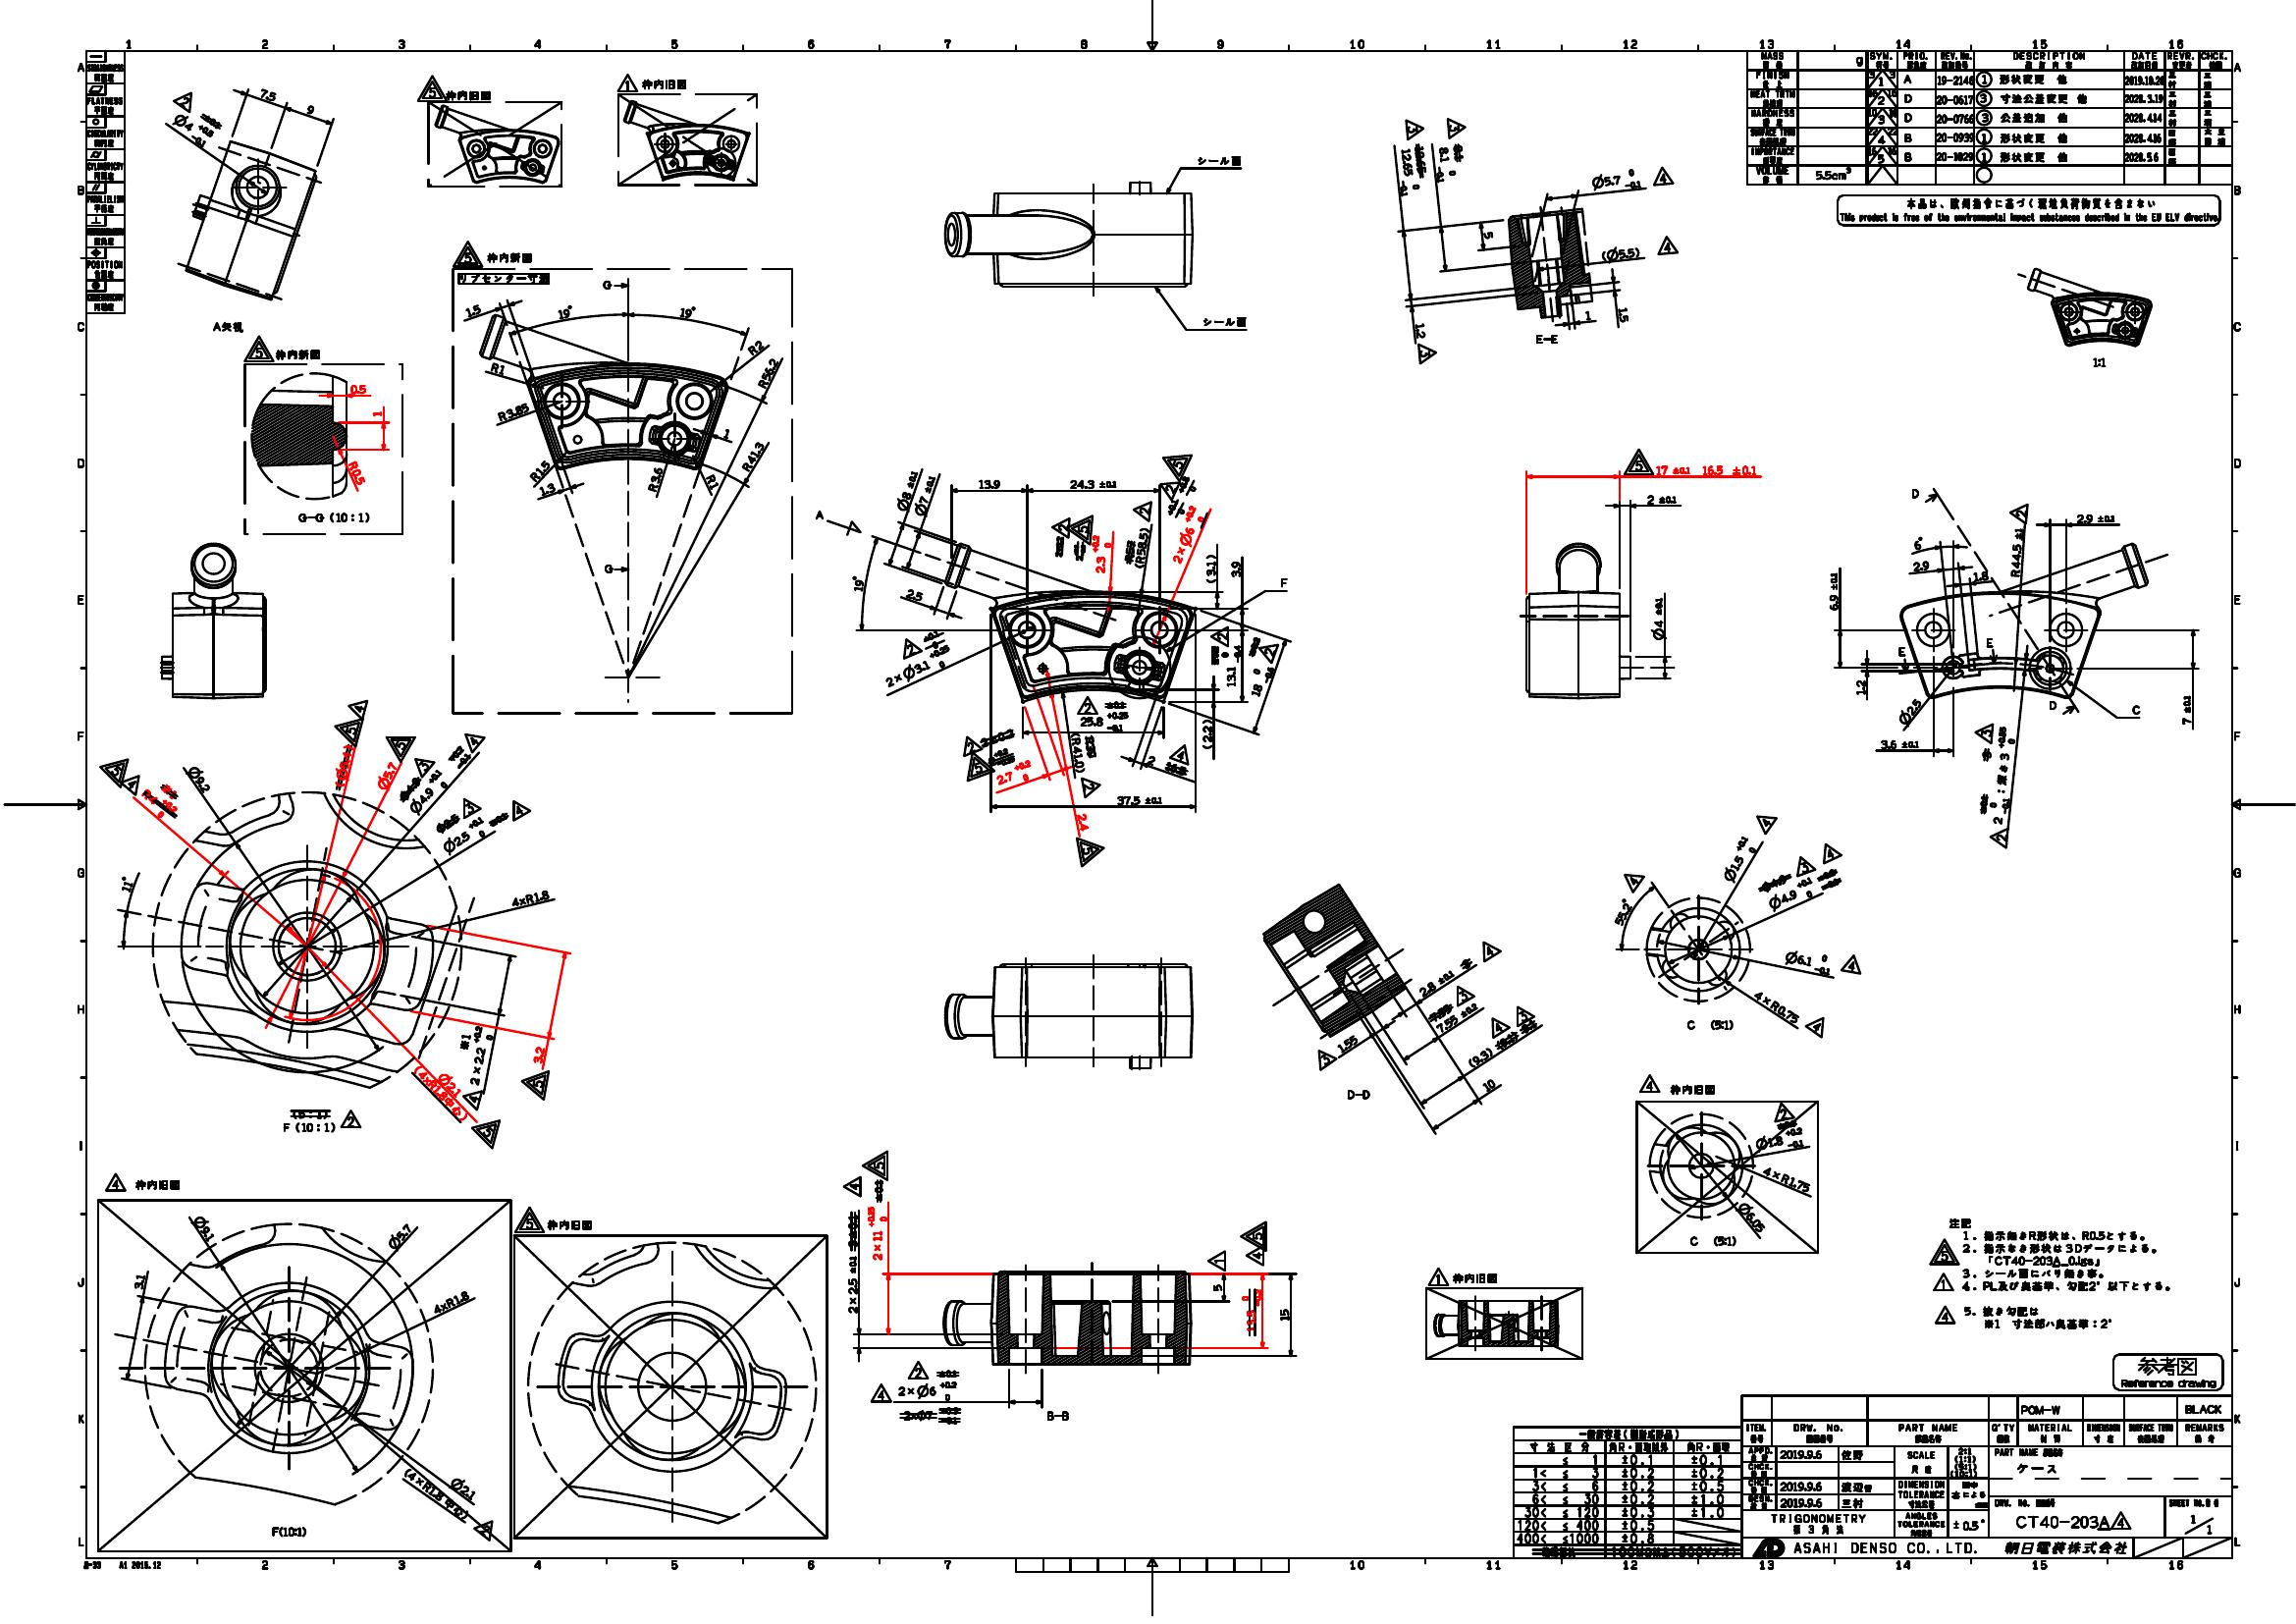anntotation_text: (1927, 1216, 2175, 1329), (1836, 193, 2220, 227), (2110, 1352, 2224, 1388), (455, 271, 550, 283), (520, 1069, 553, 1102), (857, 1148, 889, 1183), (97, 758, 128, 789), (471, 1118, 502, 1149), (1237, 1220, 1268, 1251), (513, 1204, 546, 1234), (1621, 445, 1655, 475), (1075, 835, 1105, 868), (81, 1559, 162, 1571), (451, 239, 483, 269), (383, 735, 416, 763), (964, 752, 994, 782), (415, 74, 446, 102), (242, 334, 274, 362), (297, 511, 369, 524), (1066, 513, 1093, 547), (334, 717, 364, 745), (1161, 453, 1193, 480), (132, 1176, 181, 1192), (279, 1120, 334, 1134), (1203, 315, 1247, 330), (545, 1218, 594, 1232), (1685, 1018, 1734, 1032), (1688, 1234, 1736, 1248), (1667, 1083, 1715, 1097), (639, 77, 687, 91), (1449, 1271, 1498, 1283), (336, 1107, 362, 1130), (102, 1171, 128, 1193), (1635, 1070, 1662, 1093), (866, 1383, 894, 1404), (1196, 155, 1244, 167), (840, 1174, 863, 1199), (1655, 234, 1679, 257), (487, 250, 532, 262), (1166, 743, 1191, 766), (905, 1359, 931, 1380), (1753, 814, 1780, 835), (1620, 872, 1646, 893), (269, 1524, 307, 1538), (346, 698, 369, 721), (464, 729, 487, 752), (1839, 953, 1862, 975), (1794, 854, 1816, 877), (2006, 501, 2029, 524), (1651, 165, 1674, 188), (1079, 775, 1101, 798), (1131, 499, 1154, 522), (1049, 515, 1072, 538), (1773, 1102, 1797, 1123), (1822, 840, 1843, 865), (413, 756, 436, 777), (462, 796, 483, 819), (511, 798, 532, 821), (1205, 1250, 1228, 1271), (1490, 1016, 1511, 1039), (1455, 984, 1476, 1007), (1481, 940, 1504, 961), (1973, 722, 1994, 745), (1987, 826, 2008, 849), (1416, 341, 1437, 364), (1404, 116, 1425, 139), (617, 70, 638, 93), (444, 90, 490, 100), (174, 88, 197, 109), (274, 348, 320, 359), (899, 638, 922, 659), (961, 735, 982, 758), (1075, 696, 1100, 715), (1244, 1244, 1265, 1265), (1426, 1265, 1448, 1287), (1514, 1005, 1535, 1026), (1316, 1049, 1337, 1070), (1802, 1016, 1823, 1037), (1258, 643, 1279, 664), (1209, 626, 1230, 647), (1159, 480, 1180, 501), (1446, 116, 1465, 139), (211, 320, 242, 332), (462, 1090, 481, 1109), (121, 775, 139, 796), (1043, 1408, 1070, 1422), (1344, 1088, 1370, 1100), (1532, 332, 1558, 344), (1279, 575, 1291, 591), (2090, 355, 2106, 367), (601, 278, 613, 292), (812, 508, 824, 522), (1985, 634, 1996, 649), (603, 562, 613, 575), (2048, 698, 2059, 710), (1897, 643, 1906, 657), (2131, 701, 2140, 715), (1910, 487, 1918, 499)
dimension_text: (1952, 763, 2054, 786), (880, 657, 956, 678), (448, 1044, 508, 1069), (1655, 462, 1758, 476), (1158, 524, 1217, 547), (866, 1204, 889, 1262), (402, 782, 453, 807), (1781, 949, 1832, 974), (1080, 708, 1131, 733), (1217, 642, 1244, 689), (1590, 169, 1641, 192), (1765, 886, 1816, 909), (1713, 849, 1764, 872), (395, 1487, 478, 1501), (898, 1381, 957, 1401), (1383, 162, 1435, 183), (437, 826, 488, 847), (404, 1086, 478, 1100), (1425, 153, 1467, 178), (170, 116, 213, 139), (993, 763, 1036, 784), (1091, 533, 1114, 573), (1247, 663, 1272, 700), (1066, 475, 1117, 492), (1650, 596, 1669, 642), (2008, 526, 2024, 580), (1750, 998, 1802, 1014), (884, 482, 931, 497), (847, 1255, 859, 1315), (903, 487, 949, 503), (1762, 1172, 1813, 1186), (1432, 1009, 1481, 1023), (1600, 246, 1643, 262), (1414, 975, 1460, 990), (1133, 527, 1149, 568), (1114, 793, 1165, 805), (508, 891, 552, 905), (1878, 738, 1922, 752), (2073, 511, 2117, 524), (750, 366, 787, 380), (1734, 1211, 1771, 1225), (1056, 747, 1098, 759), (371, 768, 402, 784), (1827, 569, 1839, 610), (432, 1295, 473, 1308), (1200, 717, 1214, 750), (734, 452, 771, 464), (183, 772, 214, 786), (1894, 705, 1925, 719), (1644, 492, 1676, 506), (1203, 552, 1217, 584), (383, 1229, 415, 1243), (1609, 905, 1639, 919), (448, 1480, 478, 1494), (190, 1220, 220, 1234), (2180, 692, 2192, 726), (525, 464, 553, 478), (495, 406, 532, 417), (436, 1076, 462, 1090), (641, 471, 671, 483), (344, 466, 369, 480), (975, 478, 1001, 490), (1467, 1053, 1493, 1065), (1910, 557, 1932, 571), (1337, 1037, 1360, 1049), (1075, 810, 1087, 833), (678, 304, 696, 320), (905, 589, 924, 603), (745, 341, 766, 353), (1228, 559, 1240, 580), (850, 575, 866, 591), (1481, 1077, 1497, 1093), (704, 475, 722, 489), (1412, 322, 1426, 339), (529, 1048, 548, 1060), (258, 88, 278, 100), (555, 306, 574, 318), (538, 483, 557, 496), (1853, 677, 1866, 696), (1910, 534, 1924, 550), (1277, 1306, 1291, 1322), (350, 381, 367, 394), (464, 304, 483, 315), (130, 1276, 149, 1287), (488, 362, 504, 374), (1618, 306, 1628, 323), (1145, 756, 1158, 768), (1483, 228, 1497, 239), (1212, 1280, 1223, 1294), (722, 425, 731, 441), (371, 408, 383, 417), (306, 104, 314, 116), (1583, 309, 1592, 322)
object: (149, 791, 462, 1090), (141, 1220, 436, 1508), (525, 1241, 817, 1526), (942, 540, 1198, 707), (478, 313, 731, 471), (1897, 541, 2150, 700), (942, 961, 1193, 1070), (943, 181, 1193, 290), (940, 1269, 1193, 1367), (1260, 881, 1409, 1040), (181, 139, 320, 302), (1523, 541, 1632, 701), (160, 541, 269, 700), (248, 371, 346, 499), (1648, 1111, 1755, 1222), (1643, 895, 1753, 1002), (620, 97, 754, 183), (2025, 265, 2155, 350), (436, 102, 560, 183), (1505, 206, 1593, 320), (1432, 1295, 1560, 1350)
title_block: (1511, 1392, 2235, 1561), (1744, 49, 2235, 186), (83, 49, 126, 315)
